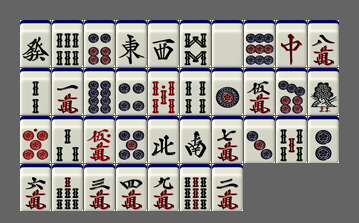0m: (84, 116, 115, 163)
0p: (20, 116, 51, 163)
0s: (148, 68, 179, 115)
1m: (52, 68, 83, 115)
1p: (212, 68, 243, 115)
1s: (308, 68, 339, 115)
1z: (116, 20, 147, 67)
2m: (212, 164, 243, 211)
2p: (308, 116, 339, 163)
2s: (20, 68, 51, 115)
2z: (180, 116, 211, 163)
3m: (84, 164, 115, 211)
3p: (244, 116, 275, 163)
3s: (52, 116, 83, 163)
3z: (148, 20, 179, 67)
4m: (116, 164, 147, 211)
4p: (116, 68, 147, 115)
4s: (180, 68, 211, 115)
4z: (148, 116, 179, 163)
5m: (244, 68, 275, 115)
5p: (116, 116, 147, 163)
5s: (276, 116, 307, 163)
5z: (212, 20, 243, 67)
6m: (20, 164, 51, 211)
6p: (84, 20, 115, 67)
6s: (52, 20, 83, 67)
6z: (20, 20, 51, 67)
7m: (212, 116, 243, 163)
7p: (276, 68, 307, 115)
7s: (52, 164, 83, 211)
7z: (276, 20, 307, 67)
8m: (308, 20, 339, 67)
8p: (84, 68, 115, 115)
8s: (180, 20, 211, 67)
9m: (148, 164, 179, 211)
9p: (244, 20, 275, 67)
9s: (180, 164, 211, 211)
